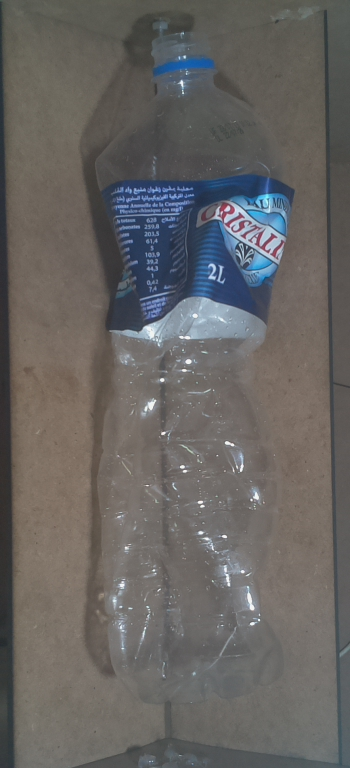Bouteille_2L: (83, 25, 305, 714)
